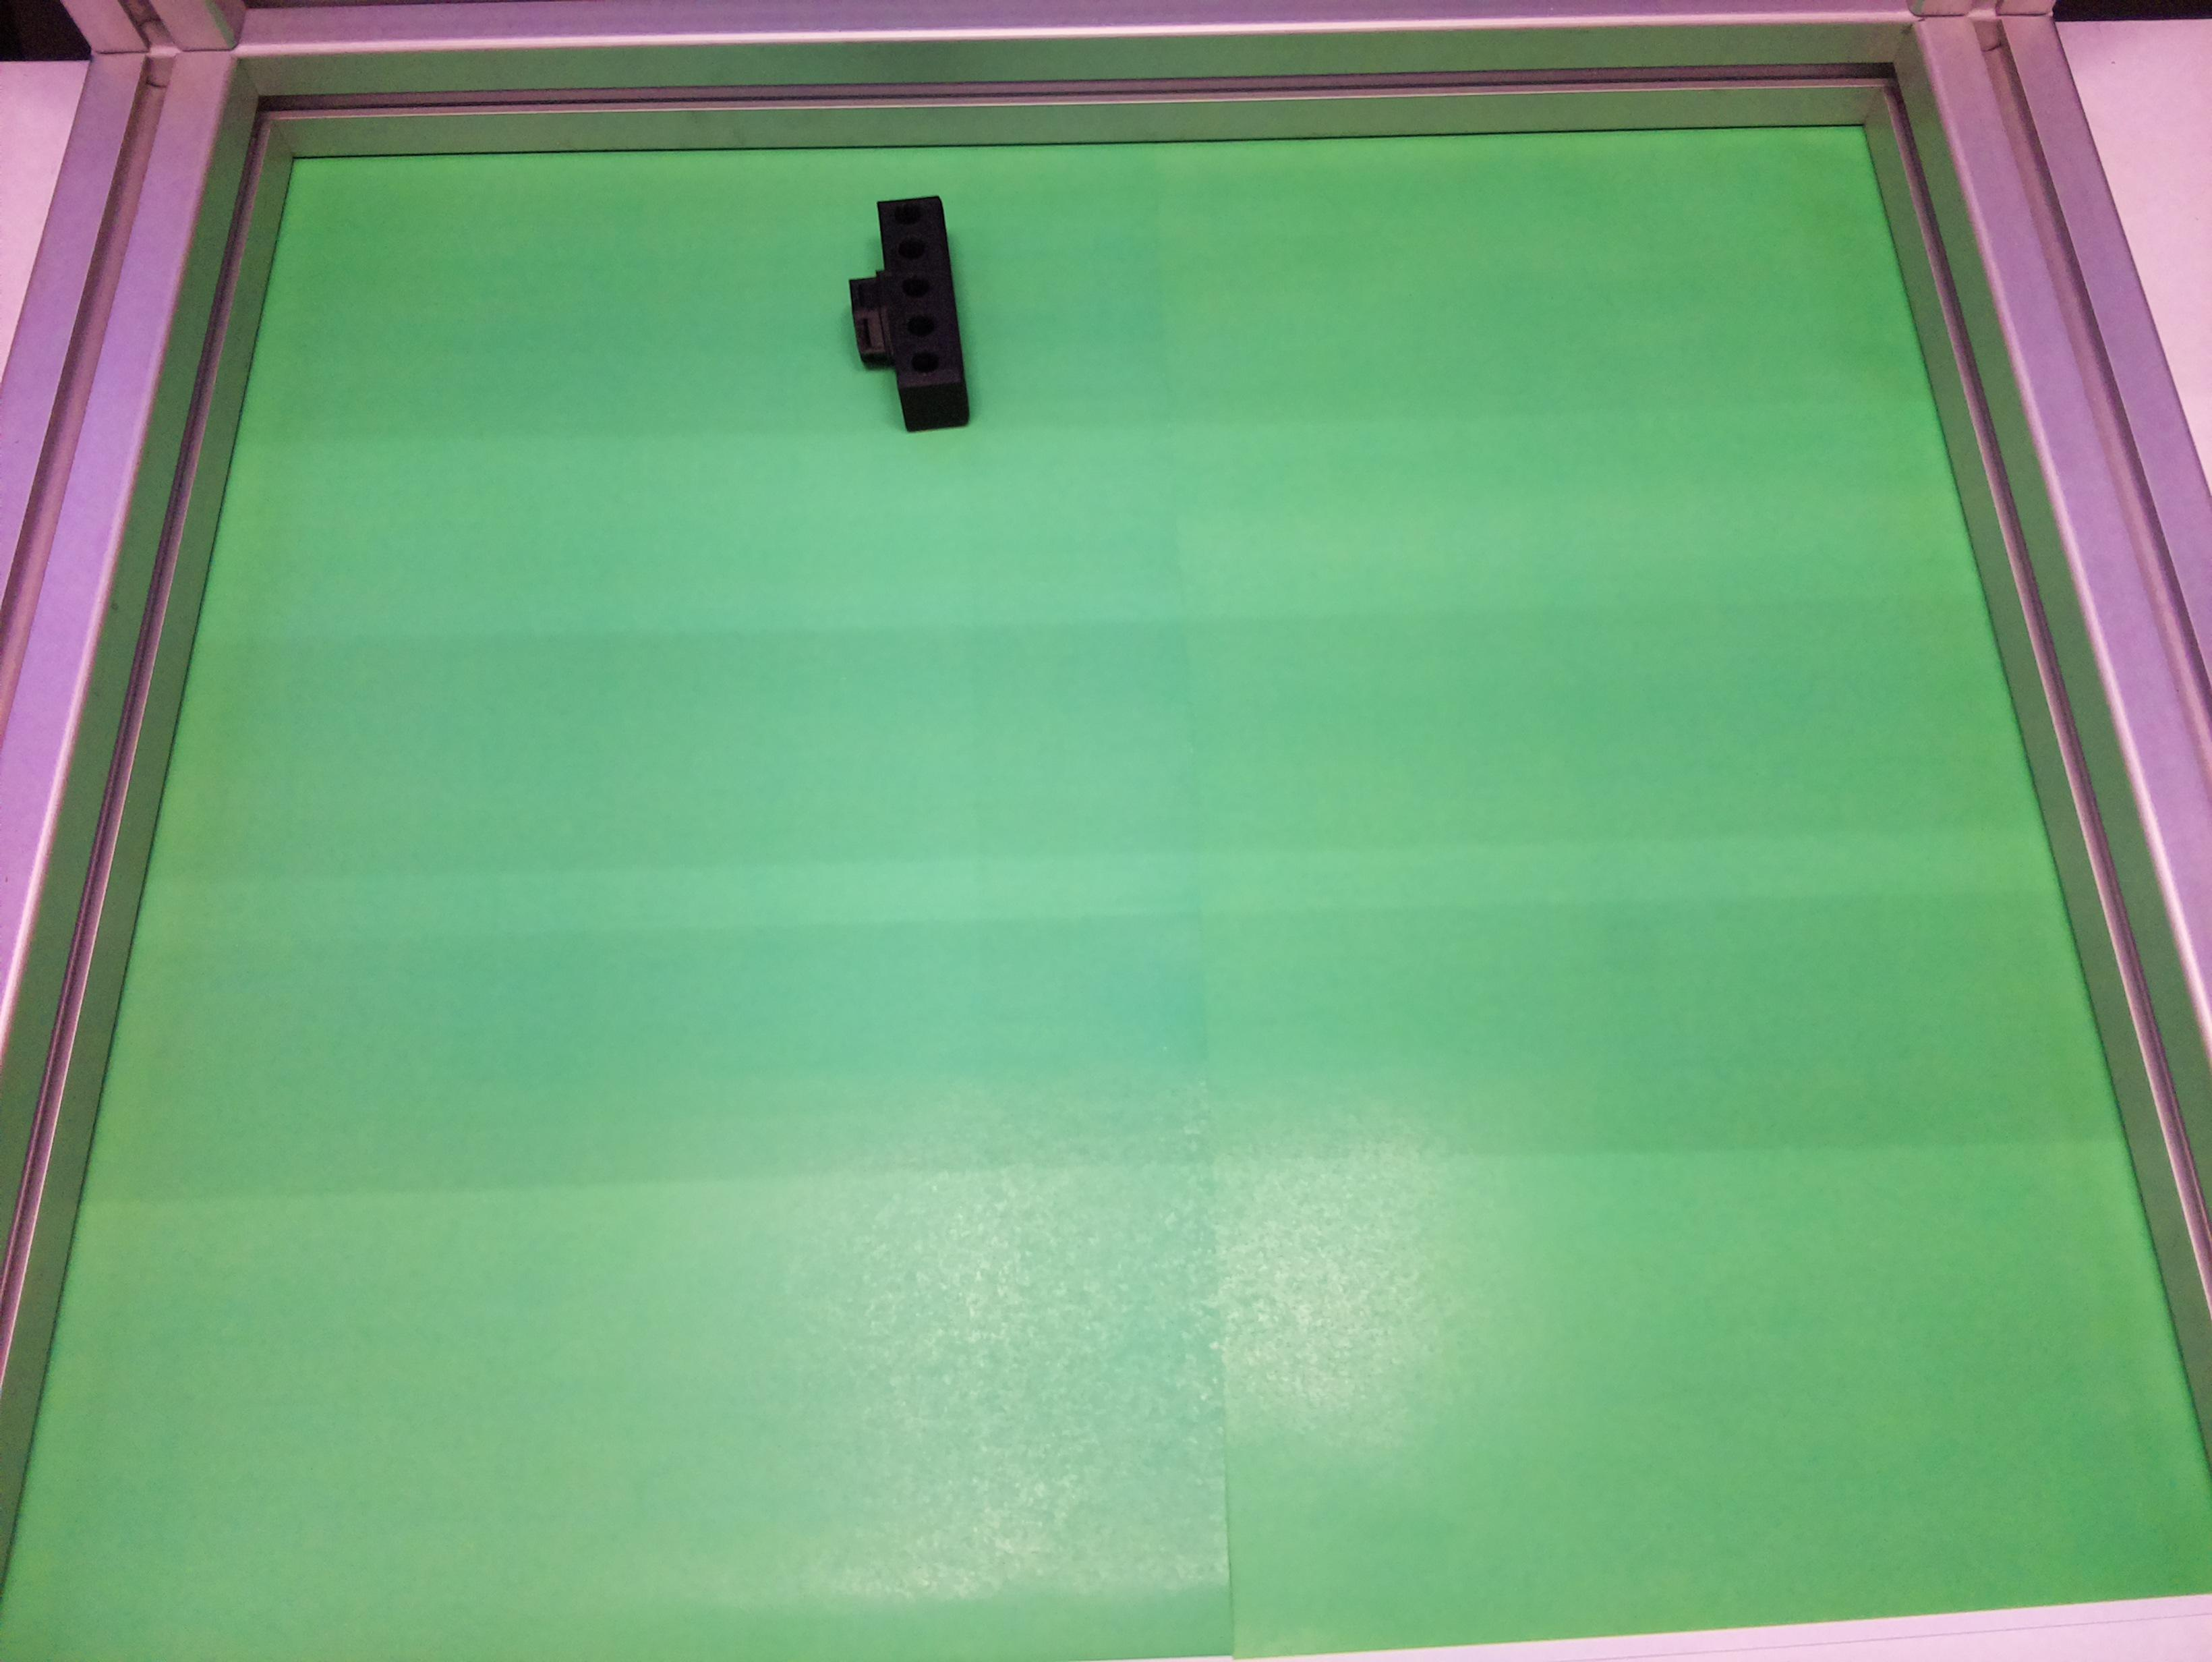bit_holder: (840, 196, 972, 438)
